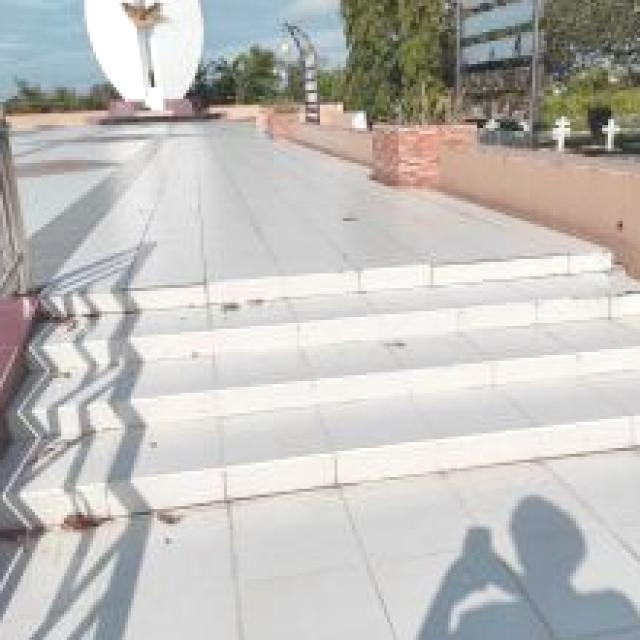upstair: (41, 239, 640, 515)
